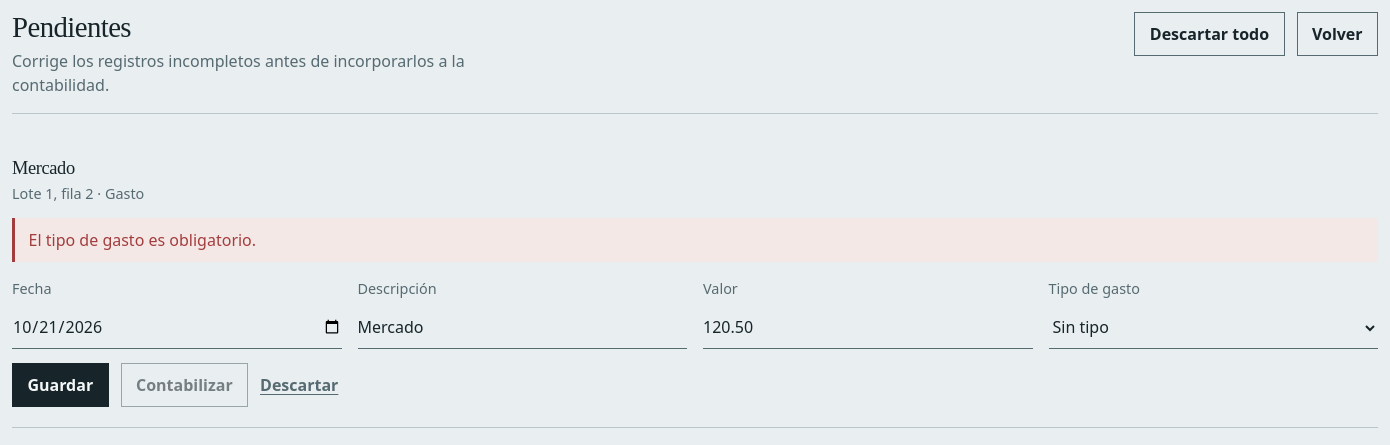
Scenario: PendingView › saves and commits a pending row
Expected: the heading "Mercado" is shown, [12, 158, 75, 178]
Select "No necesario" in the dropdown labelled "Tipo de gasto": {"x": 1213, "y": 328} [1048, 307, 1378, 349]
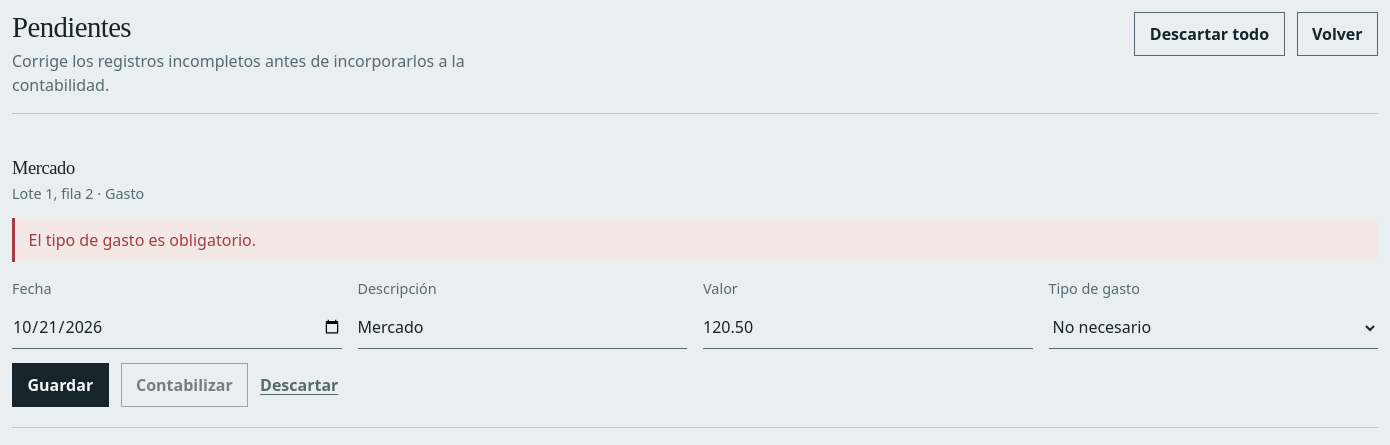
Click the button "Guardar": {"x": 60, "y": 385} [12, 363, 108, 407]
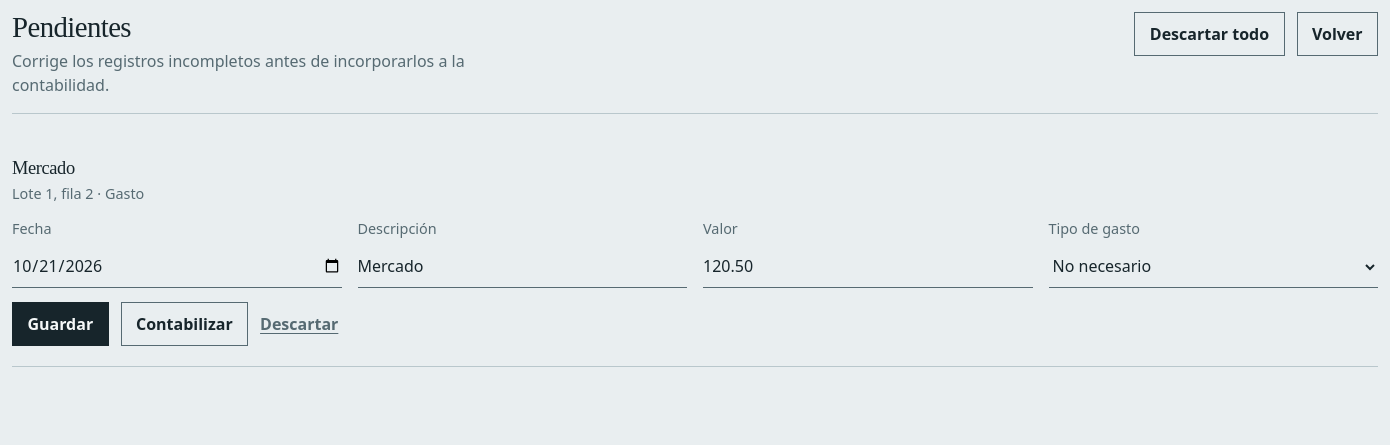
Expected: the button "Contabilizar" is enabled
Click the button "Contabilizar": {"x": 184, "y": 324} [120, 302, 248, 346]
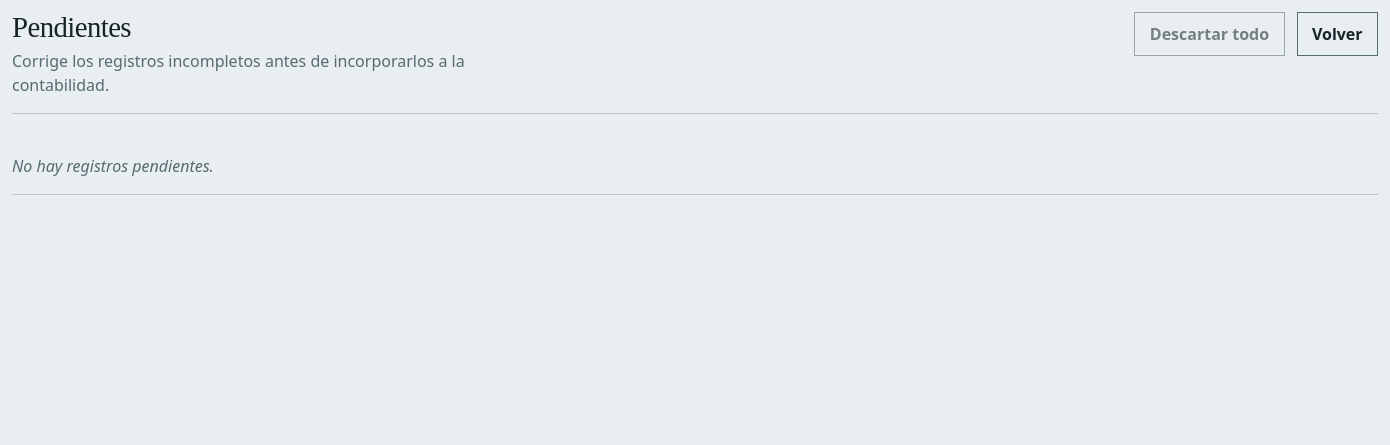
Expected: the text "No hay registros pendientes." is shown, [12, 138, 1378, 195]
